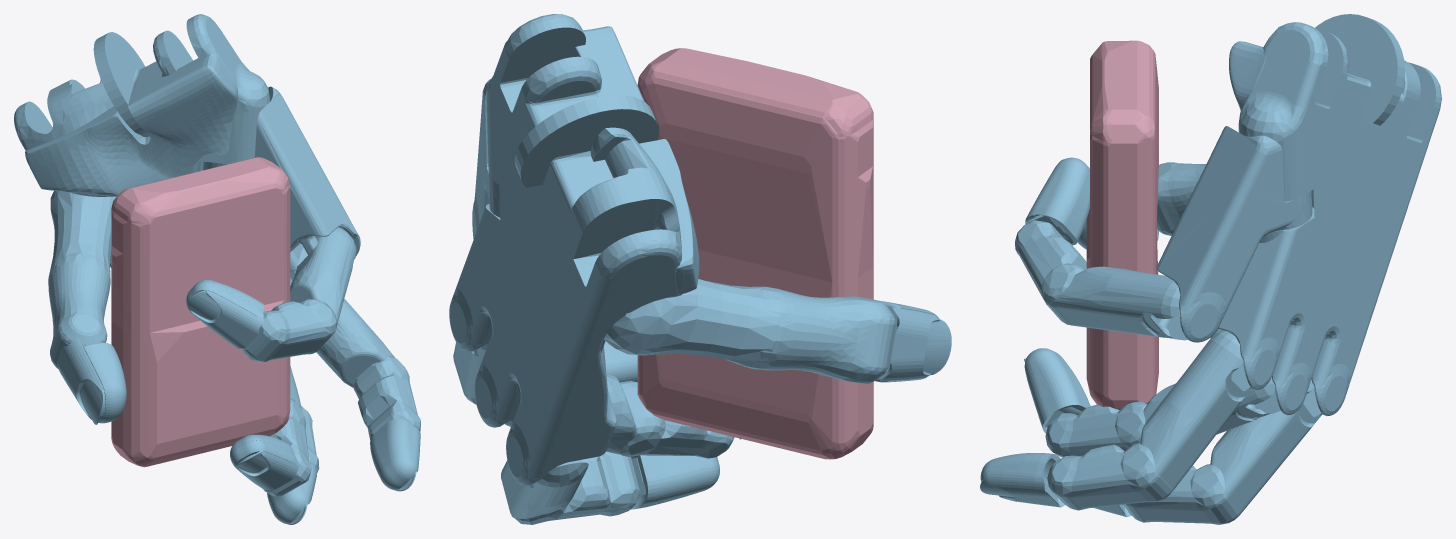
3 views of the same model, side by side, from view 1: azimuth 30°, elevation 25°; view 2: azimuth 150°, elevation 25°; view 3: azimuth 270°, elevation 25° (orthographic). The views are drawn at different scales.
Visible parts, largest first — view 1: hand_isaac_q, world; view 2: hand_isaac_q, world; view 3: hand_isaac_q, world.
Part boxes in pixels (box(x1,y1,x2,y2)): hand_isaac_q: box(14, 14, 420, 524); world: box(111, 157, 290, 467); hand_isaac_q: box(449, 14, 951, 524); world: box(637, 48, 873, 459); hand_isaac_q: box(980, 14, 1441, 524); world: box(1086, 40, 1158, 409).
Bounding box in the file's own units: 0.1383 × 0.1669 × 0.1444.
